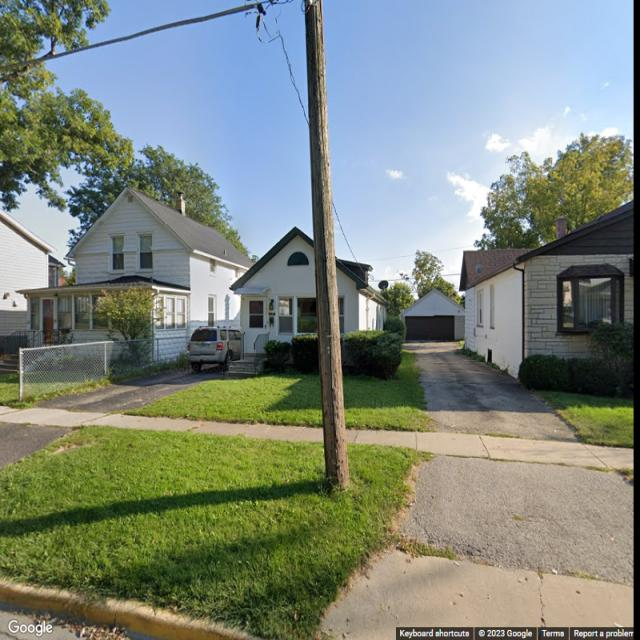House: (15, 187, 255, 368), (457, 198, 633, 380), (229, 227, 391, 355), (0, 209, 66, 359)
